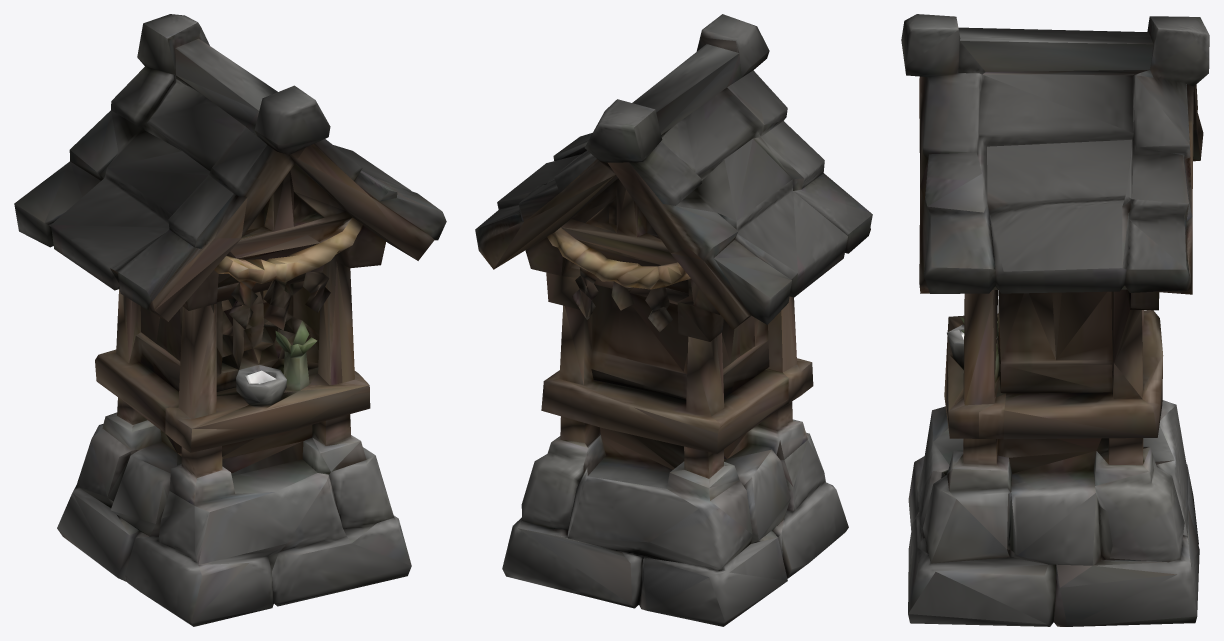
File: hokora.glb
The picture shows the model from 3 angles, left to right: view 1: azimuth 30°, elevation 25°; view 2: azimuth 150°, elevation 25°; view 3: azimuth 270°, elevation 25°; orthographic projection. The views are drawn at different scales.
Parts seen in each view (by area): view 1: tripo_node_0874d203-5bf2-43b5-b273-3d06ea0f4118; view 2: tripo_node_0874d203-5bf2-43b5-b273-3d06ea0f4118; view 3: tripo_node_0874d203-5bf2-43b5-b273-3d06ea0f4118.
Boxes of the visible parts, x1,y1,x2,y2 form: tripo_node_0874d203-5bf2-43b5-b273-3d06ea0f4118: [14, 14, 446, 626]; tripo_node_0874d203-5bf2-43b5-b273-3d06ea0f4118: [475, 14, 872, 626]; tripo_node_0874d203-5bf2-43b5-b273-3d06ea0f4118: [901, 14, 1209, 626].
Bounding box in the file's own units: 0.6385 × 0.9773 × 0.4979.
1 material, 1 textured.
